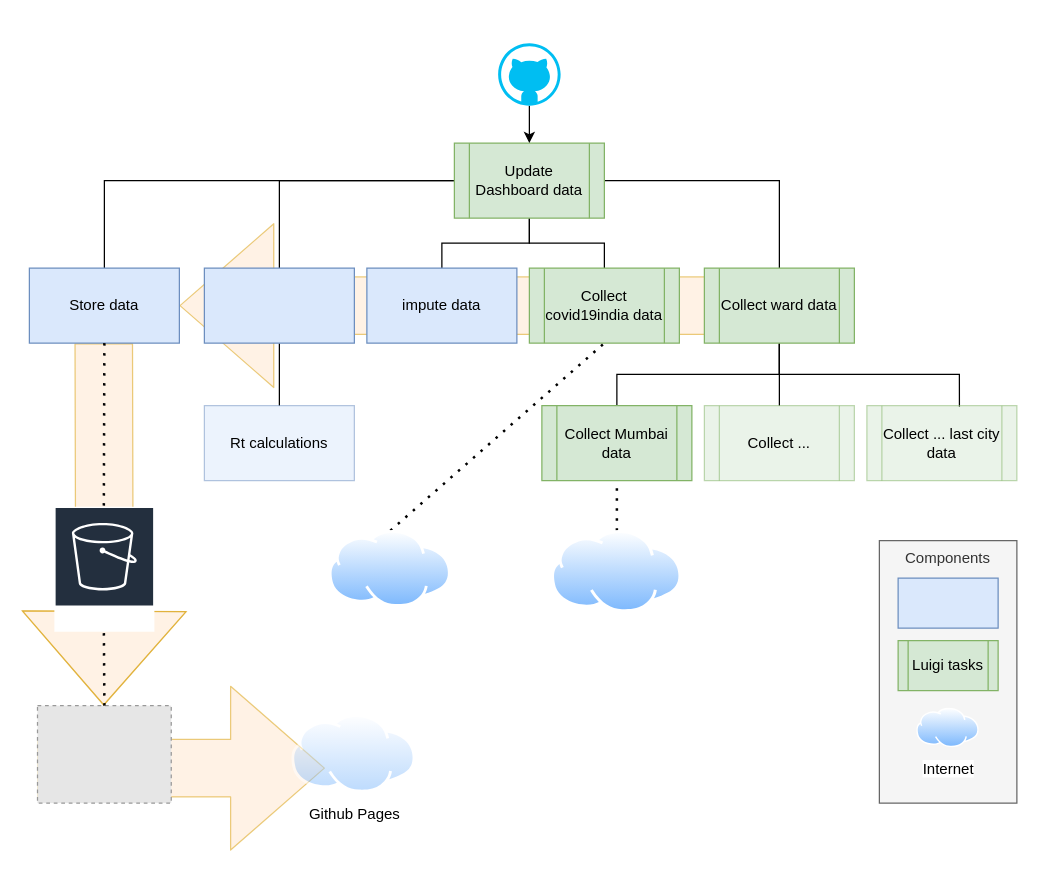
Some shapes in this 1039 by 871 pixel diagram are drawn without their labels. Grey dashed boxes stand in for pictures. The shapes that lost their labels are listed below. From the top down, each one's box as (x1, y1, x2, y2) in pixels, then its label:
(498, 42, 560, 105): Github workflow
(203, 267, 354, 343): calculate metrics
(53, 505, 154, 632): Amazon S3
(329, 530, 451, 607): covid19india API
(551, 530, 682, 612): Mumbai PDF
(897, 577, 998, 628): backend python module
